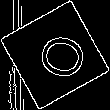O_W: (25, 27, 85, 83)
